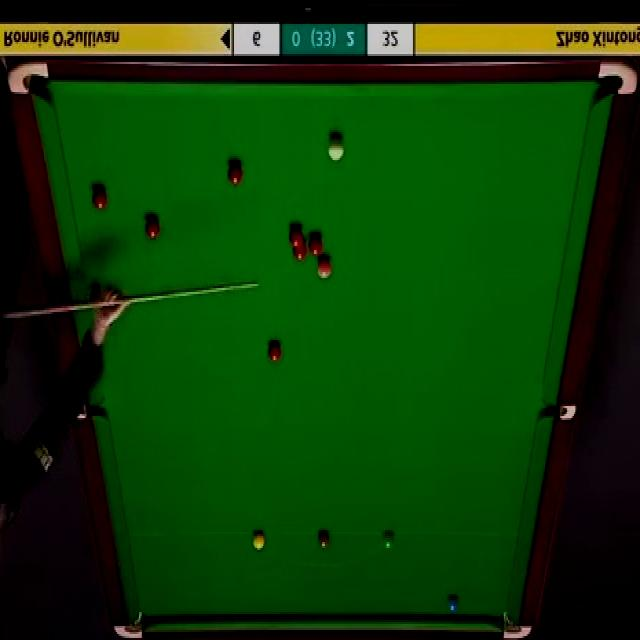blue-ball: (445, 593, 461, 618)
brown-ball: (317, 529, 331, 549)
green-ball: (382, 528, 396, 550)
pink-ball: (314, 255, 332, 279)
red-ball: (92, 184, 108, 212), (227, 160, 243, 187), (144, 212, 160, 239), (267, 340, 283, 364), (307, 235, 324, 257), (288, 224, 304, 247), (89, 285, 104, 309), (291, 240, 308, 261)
white-ball: (327, 134, 345, 165)
yellow-ball: (252, 530, 266, 550)
